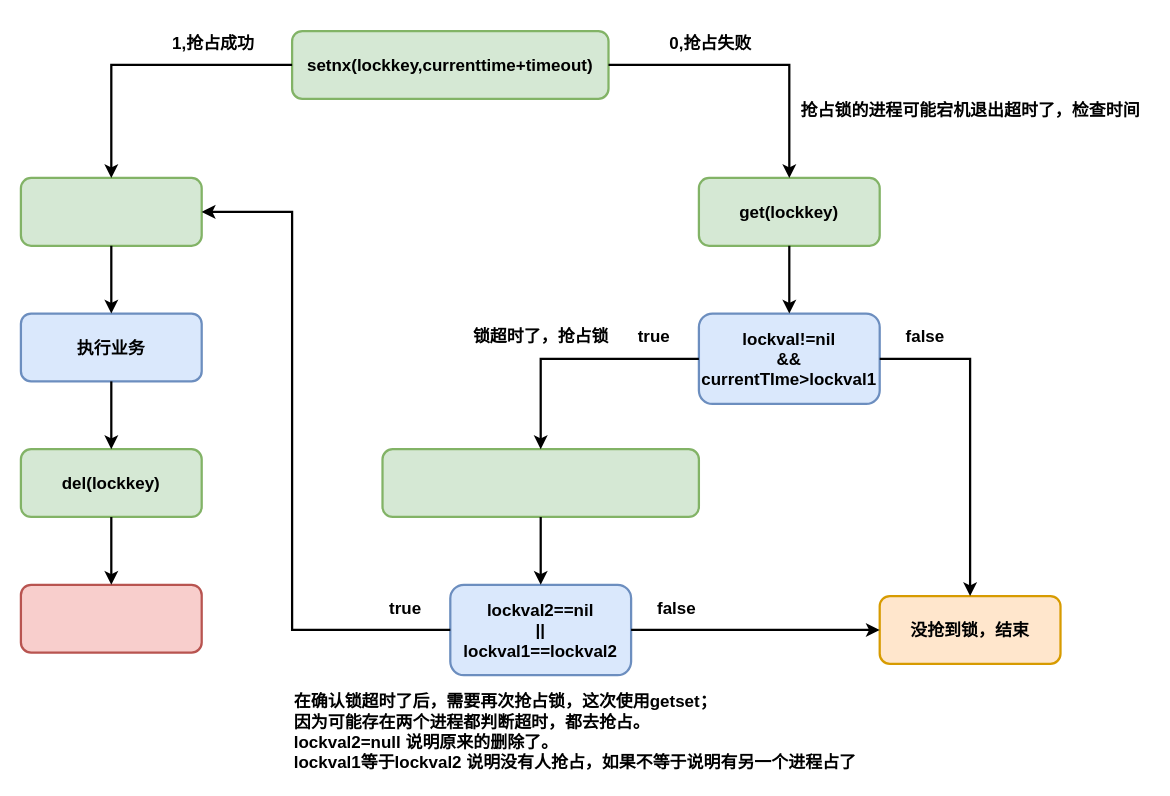
Image size: 1170x796. Some labels were removed from this diagram. The shapes that lost their labels are listed below. From the top down, each one's centre as x and y in pixels, then its label:
At pixel 110 211: "expire(lockkey)".
At pixel 540 482: "getset(lockkey,currenttime+timeout)".
At pixel 110 618: "结束".
